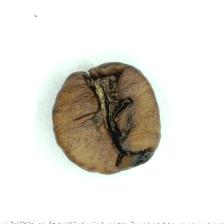NG: (76, 69, 153, 168)
